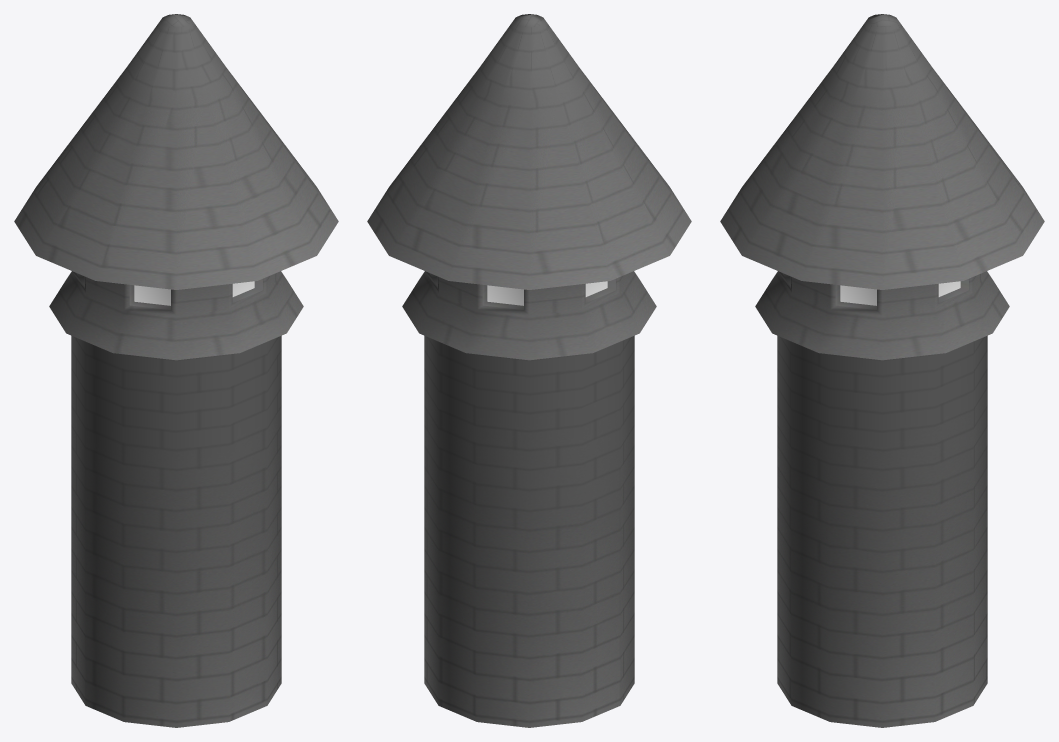
File: Tower.fbx
The picture shows the model from 3 angles, left to right: view 1: azimuth 30°, elevation 25°; view 2: azimuth 150°, elevation 25°; view 3: azimuth 270°, elevation 25°; orthographic projection.
Parts seen in each view (by area): view 1: Tower; view 2: Tower; view 3: Tower.
Boxes of the visible parts, bbox=[...] form: Tower: bbox=[14, 14, 338, 727]; Tower: bbox=[367, 14, 691, 727]; Tower: bbox=[720, 14, 1044, 727].
Size of the model in its own units: 241 by 548 by 241.
